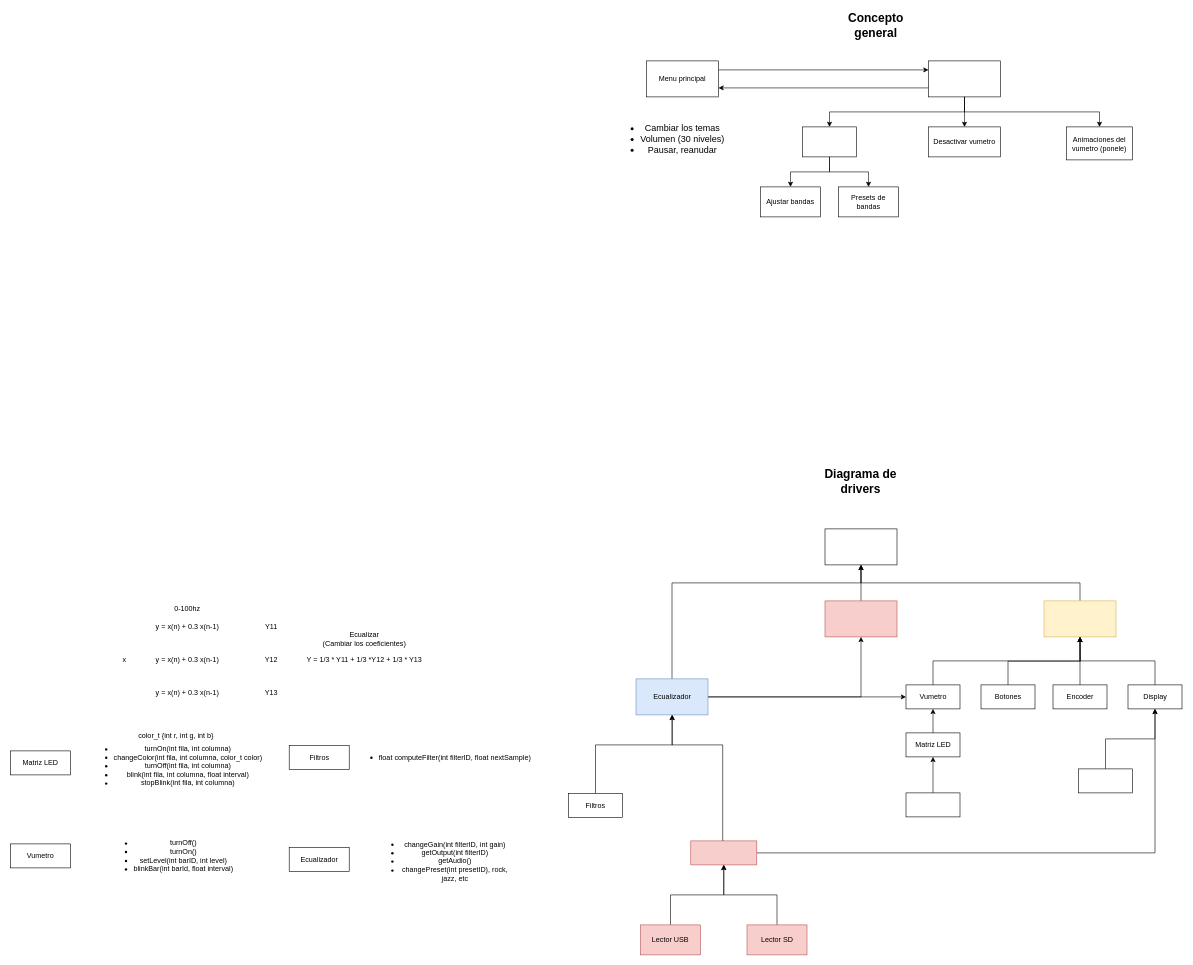
This 1193x965 diagram has some shape labels left out. Here are the shapes that lost their labels. From the top down, the box of each, then its label:
(928, 60, 1000, 97): Configuracion
(802, 126, 856, 157): Ecualizar
(824, 528, 897, 565): App
(824, 600, 897, 637): Reproductor
(1043, 600, 1116, 637): UI
(1078, 768, 1132, 793): Real Time Clock
(905, 792, 960, 817): Timers
(690, 840, 757, 865): Decodificador
